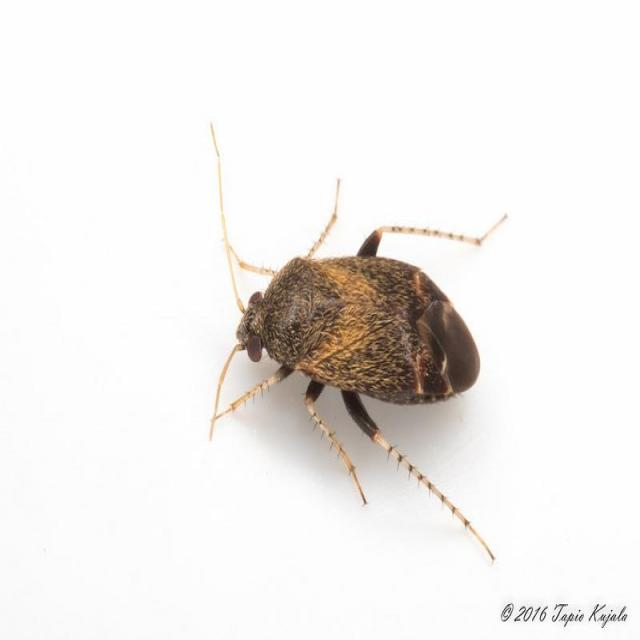Miridae-Adult-: (183, 107, 511, 572)
